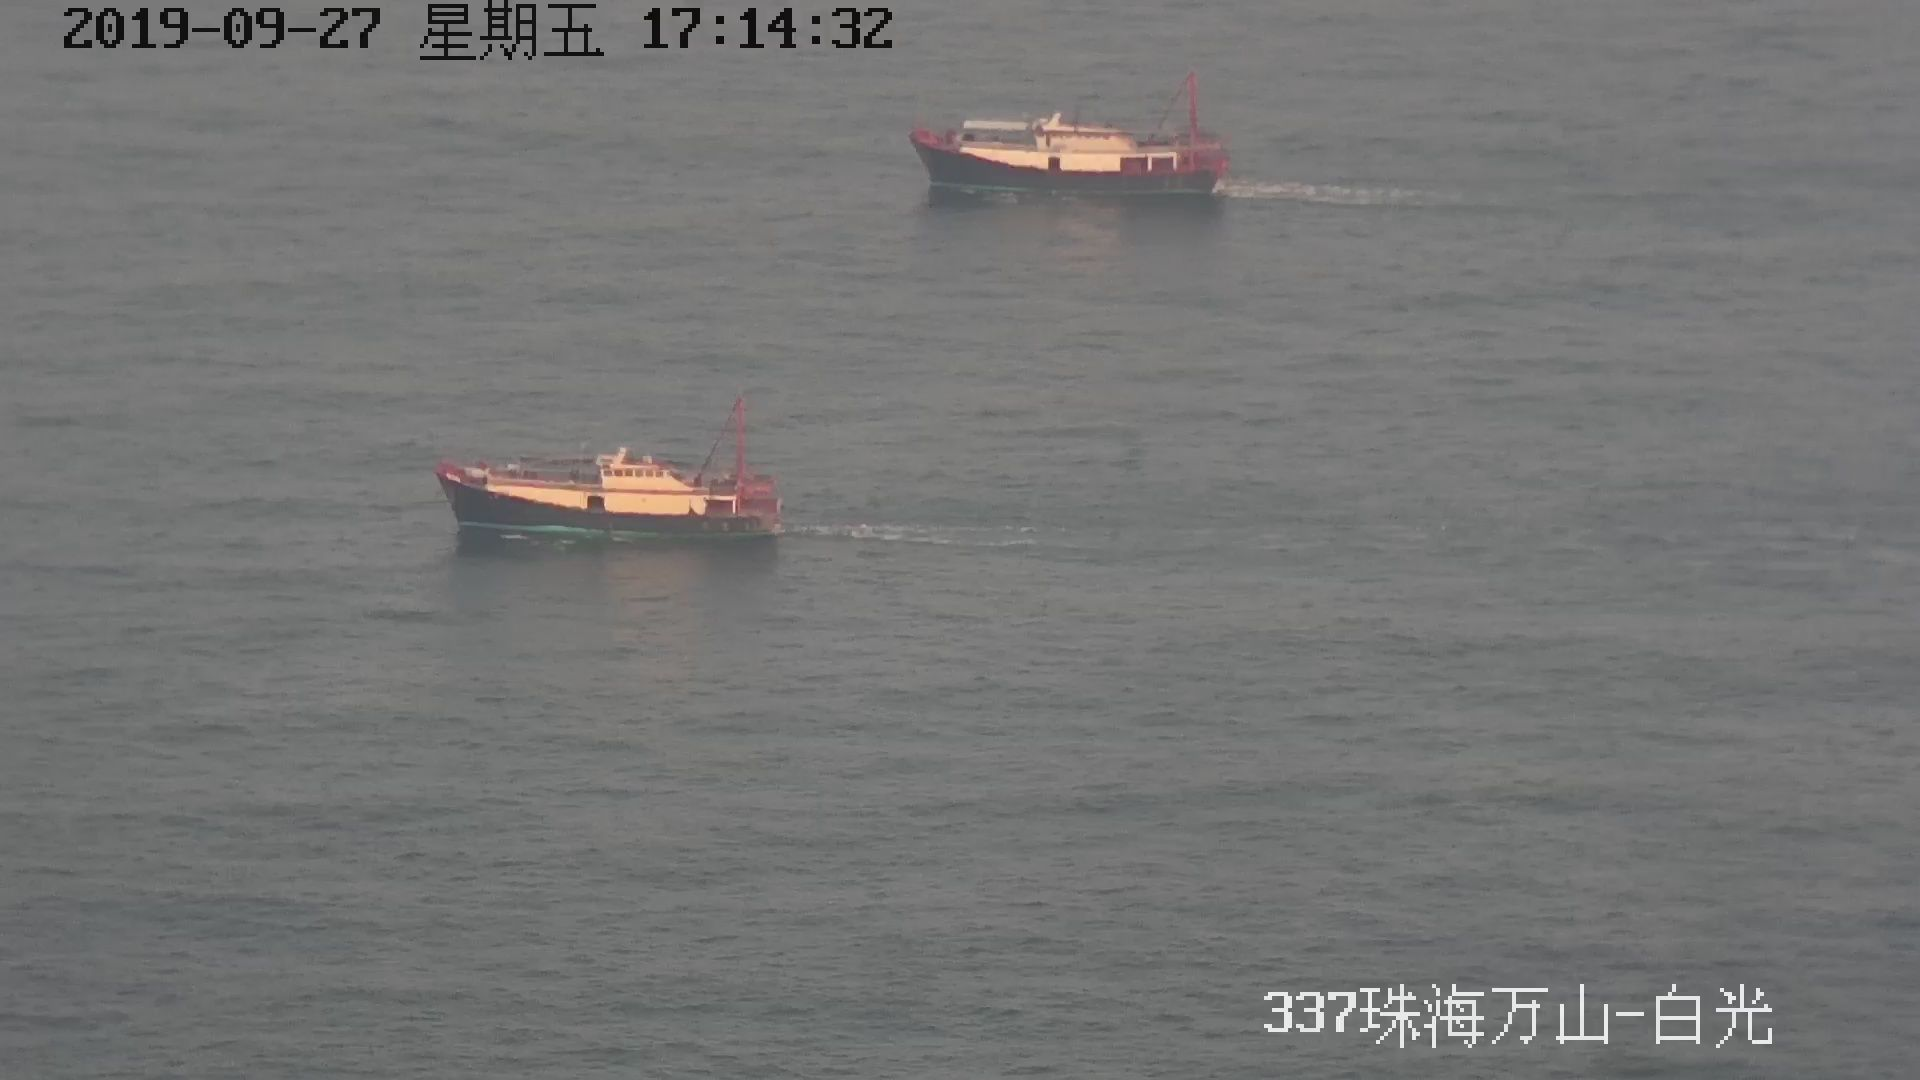ship: (435, 401, 791, 545), (907, 79, 1229, 204)
